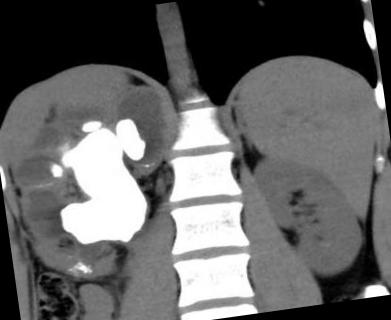Tas_Var: (46, 121, 155, 253), (110, 112, 150, 162), (74, 118, 105, 134), (46, 160, 64, 180), (78, 264, 87, 270), (80, 269, 88, 275), (148, 160, 154, 168), (144, 162, 150, 170), (66, 266, 73, 272)
